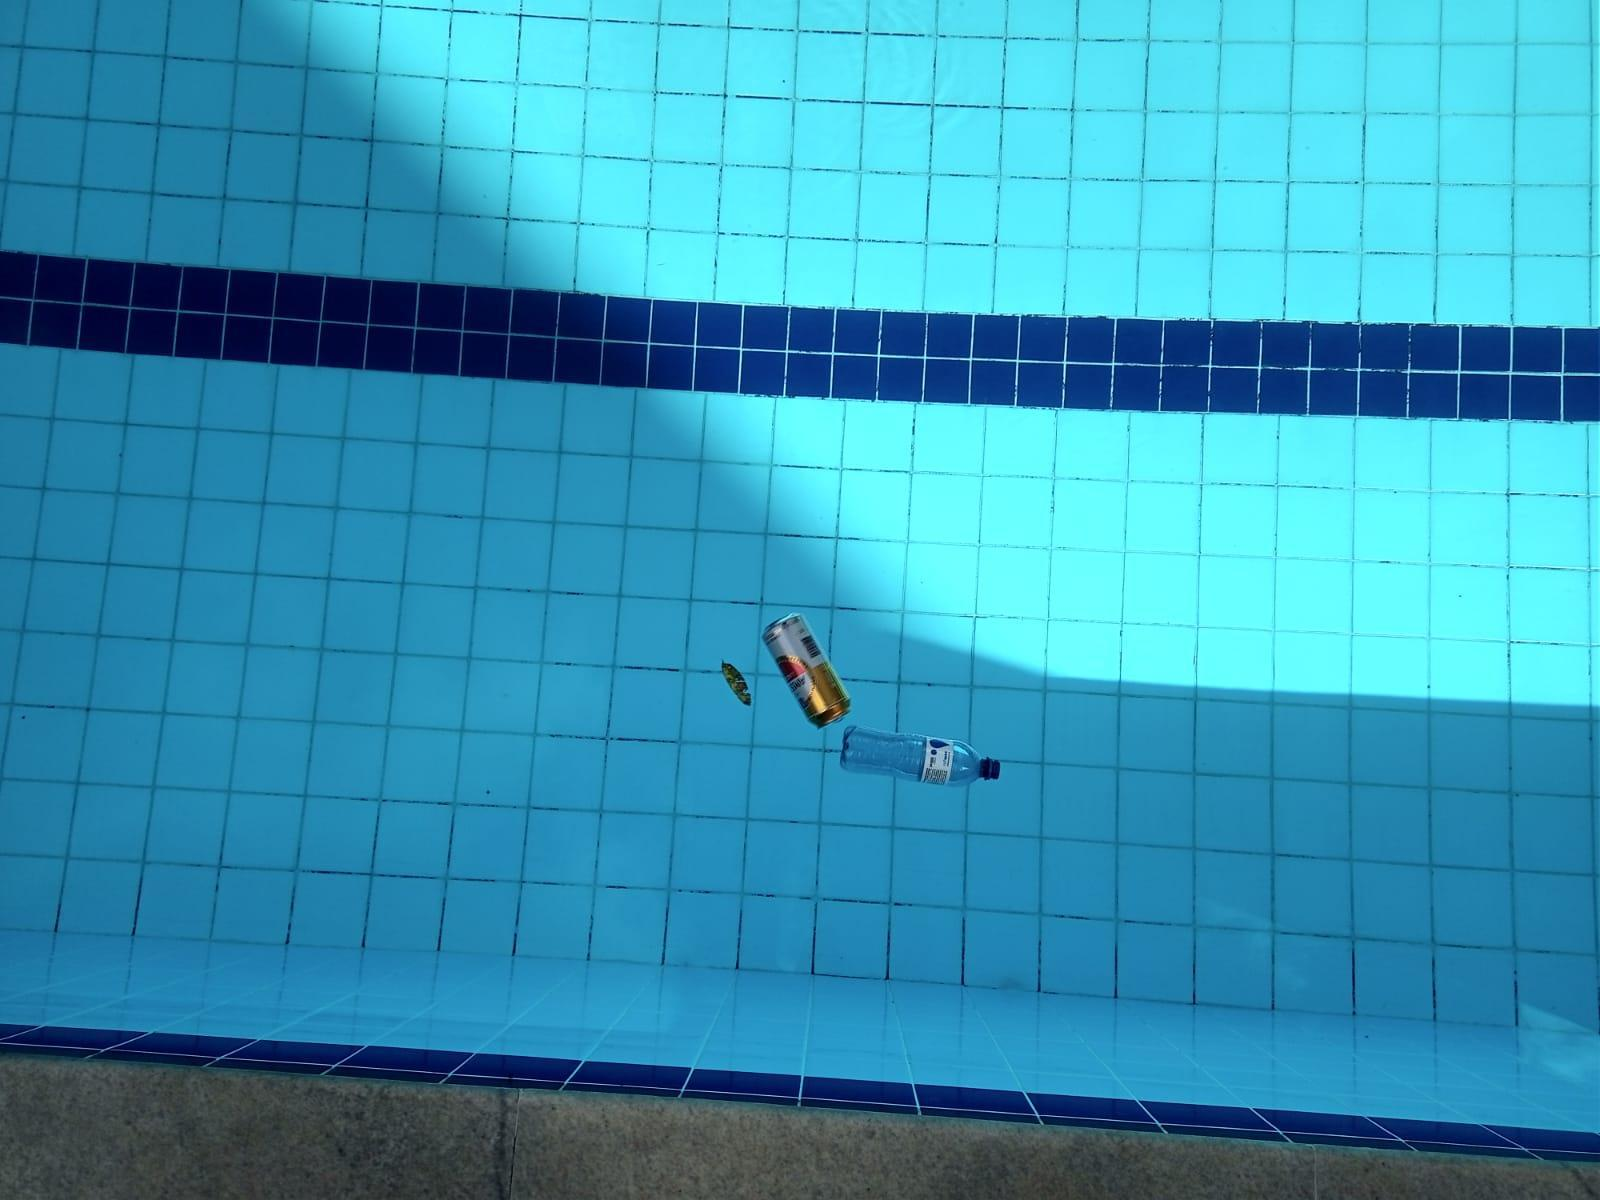Metal: (745, 594, 858, 726)
Plastic: (830, 717, 1131, 811)
